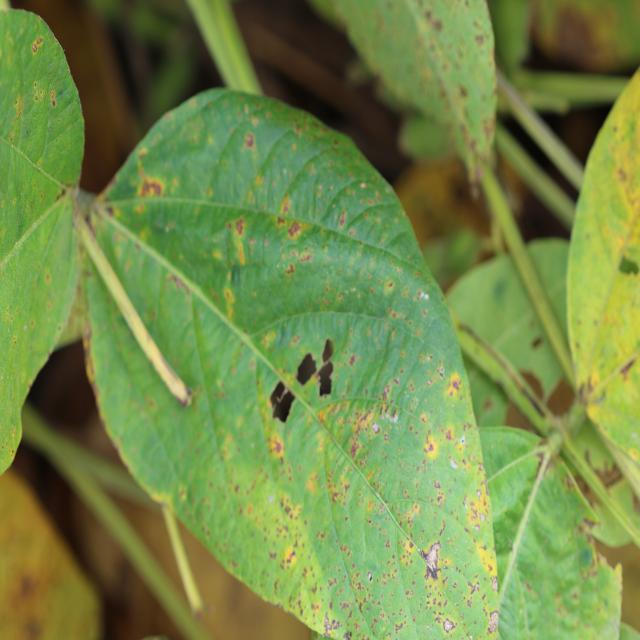Bacterial_Blight: (344, 407, 399, 472), (463, 482, 491, 529), (136, 169, 168, 200), (419, 540, 442, 580), (229, 223, 248, 267), (278, 490, 300, 523), (477, 543, 497, 576), (577, 516, 600, 539), (322, 611, 340, 635), (577, 382, 595, 406), (446, 372, 463, 397), (424, 9, 442, 32), (267, 434, 284, 458), (619, 356, 637, 378), (166, 273, 185, 293), (424, 437, 439, 459), (486, 610, 499, 633), (580, 546, 594, 567), (283, 546, 297, 566), (13, 94, 24, 119), (287, 220, 302, 238), (32, 36, 44, 53), (55, 187, 68, 201), (531, 335, 544, 349), (350, 441, 360, 459), (443, 618, 455, 633), (244, 132, 255, 148), (235, 218, 245, 235), (616, 167, 627, 182), (483, 397, 494, 412), (224, 288, 234, 304), (475, 33, 485, 47), (284, 263, 295, 275), (382, 385, 390, 399), (445, 429, 453, 441), (348, 354, 356, 366), (395, 622, 403, 634), (438, 365, 445, 378), (434, 480, 441, 490), (45, 273, 51, 284), (11, 426, 16, 439), (50, 91, 56, 101), (452, 581, 457, 589), (34, 93, 38, 101), (33, 81, 37, 88)
Soybean: (84, 90, 499, 638)
